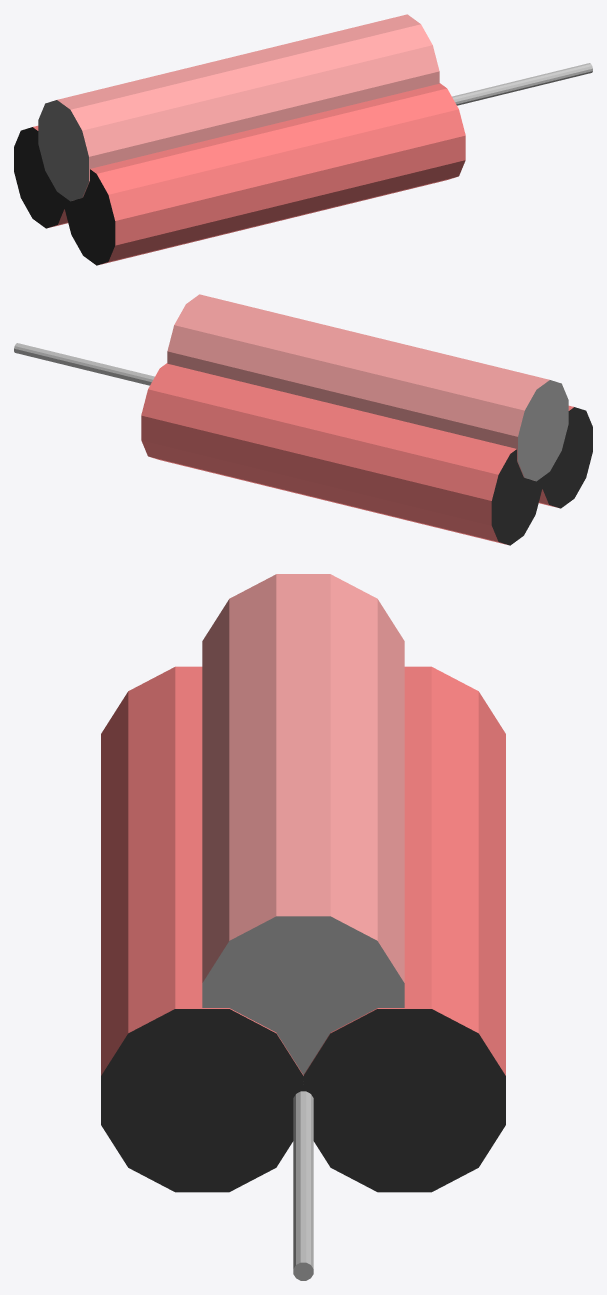
File: wide_bomb.glb
3 views of the same model, one above another, from view 1: azimuth 30°, elevation 25°; view 2: azimuth 150°, elevation 25°; view 3: azimuth 270°, elevation 25° (orthographic). The views are drawn at different scales.
Visible parts, largest first — view 1: cylinder (×4); view 2: cylinder (×4); view 3: cylinder (×4).
Boxes of the visible parts, x1=… form: cylinder (×4): x1=14, y1=14, x2=592, y2=265; cylinder (×4): x1=14, y1=294, x2=592, y2=545; cylinder (×4): x1=101, y1=574, x2=505, y2=1280.
Size of the model in its own units: 0.3756 by 0.0938 by 0.125.
3 materials, 3 textured.
